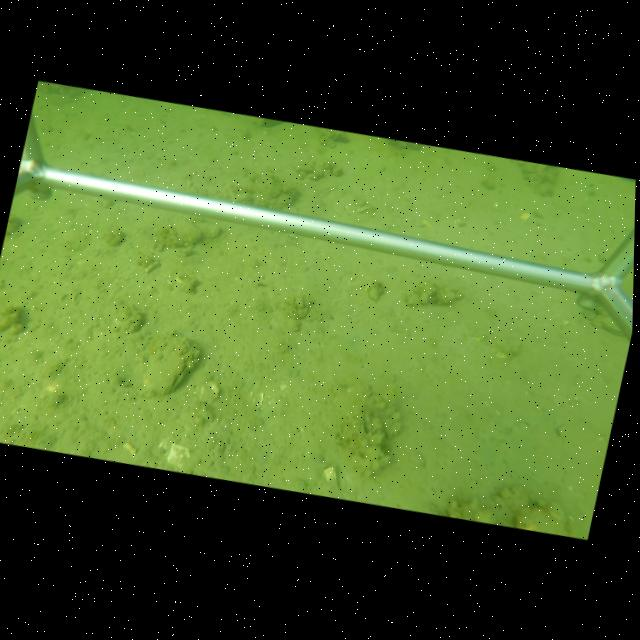Oyster-Closed: (123, 334, 201, 398), (601, 318, 626, 337)
